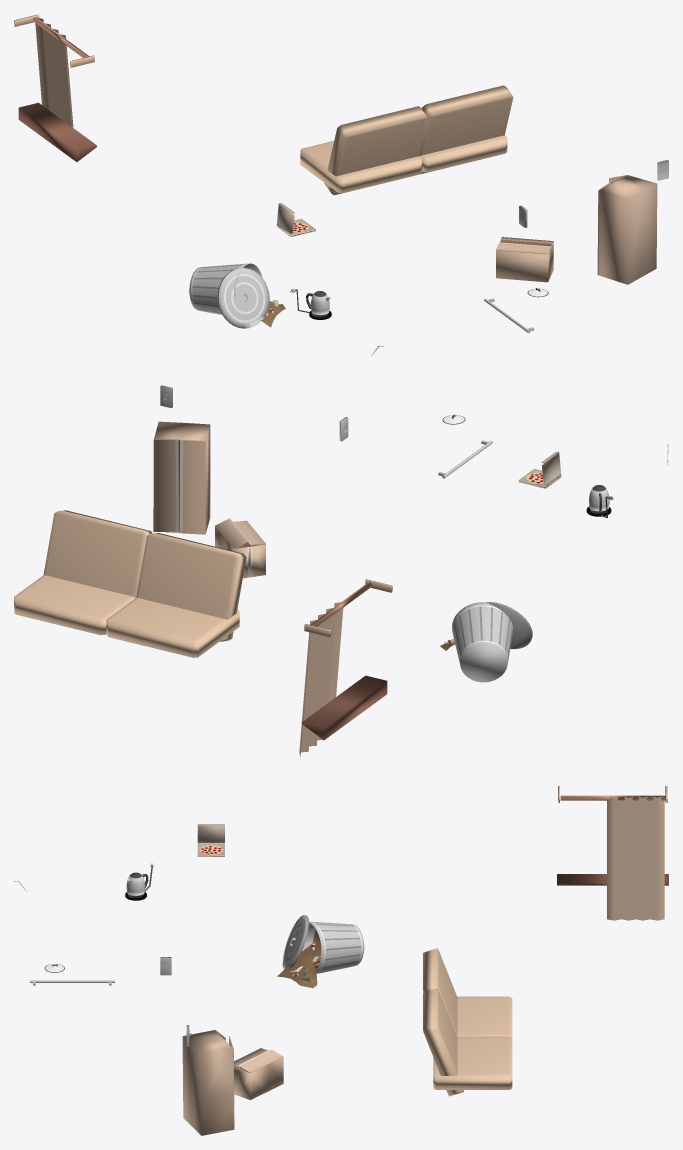
File: MicahNormalCorrections.glb
3 views of the same model, one above another, from view 1: azimuth 30°, elevation 25°; view 2: azimuth 150°, elevation 25°; view 3: azimuth 270°, elevation 25° (orthographic). The views are drawn at different scales.
Parts seen in each view (by area): view 1: CardboardBoxSmall.001, Curtains, Pillows.002, trashBin, Pillows.003, Pillows, CardboardBoxSmall, Pillows.001, kettle, pizzabox; view 2: Pillows.002, Pillows.003, Curtains, CardboardBoxSmall.001, Pillows, trashBin, Pillows.001, CardboardBoxSmall, pizzabox, kettle; view 3: Curtains, CardboardBoxSmall.001, trashBin, Pillows.001, Pillows, Pillows.003, CardboardBoxSmall, Pillows.002, pizzabox, kettle.
Part boxes in pixels (bbox=[...]): CardboardBoxSmall.001: bbox=[597, 175, 657, 284]; Curtains: bbox=[14, 14, 96, 161]; Pillows.002: bbox=[324, 106, 428, 195]; trashBin: bbox=[189, 263, 383, 356]; Pillows.003: bbox=[420, 85, 513, 173]; Pillows: bbox=[300, 141, 421, 193]; CardboardBoxSmall: bbox=[496, 237, 553, 282]; Pillows.001: bbox=[420, 135, 507, 172]; kettle: bbox=[289, 289, 331, 319]; pizzabox: bbox=[276, 203, 315, 236]; Pillows.002: bbox=[136, 533, 246, 641]; Pillows.003: bbox=[43, 510, 152, 598]; Curtains: bbox=[299, 579, 392, 757]; CardboardBoxSmall.001: bbox=[153, 421, 210, 534]; Pillows: bbox=[106, 598, 239, 657]; trashBin: bbox=[440, 444, 668, 682]; Pillows.001: bbox=[14, 575, 136, 635]; CardboardBoxSmall: bbox=[215, 518, 265, 578]; pizzabox: bbox=[518, 451, 561, 488]; kettle: bbox=[586, 485, 614, 517]; Curtains: bbox=[557, 786, 668, 920]; CardboardBoxSmall.001: bbox=[182, 1030, 234, 1135]; trashBin: bbox=[14, 880, 364, 988]; Pillows.001: bbox=[433, 1036, 512, 1089]; Pillows: bbox=[457, 996, 512, 1037]; Pillows.003: bbox=[423, 988, 463, 1096]; CardboardBoxSmall: bbox=[234, 1048, 283, 1100]; Pillows.002: bbox=[423, 948, 457, 1035]; pizzabox: bbox=[197, 824, 224, 856]; kettle: bbox=[125, 863, 153, 900].
Size of the model in its own units: 4.44 by 1.82 by 6.47.
3 materials, 2 textured.
